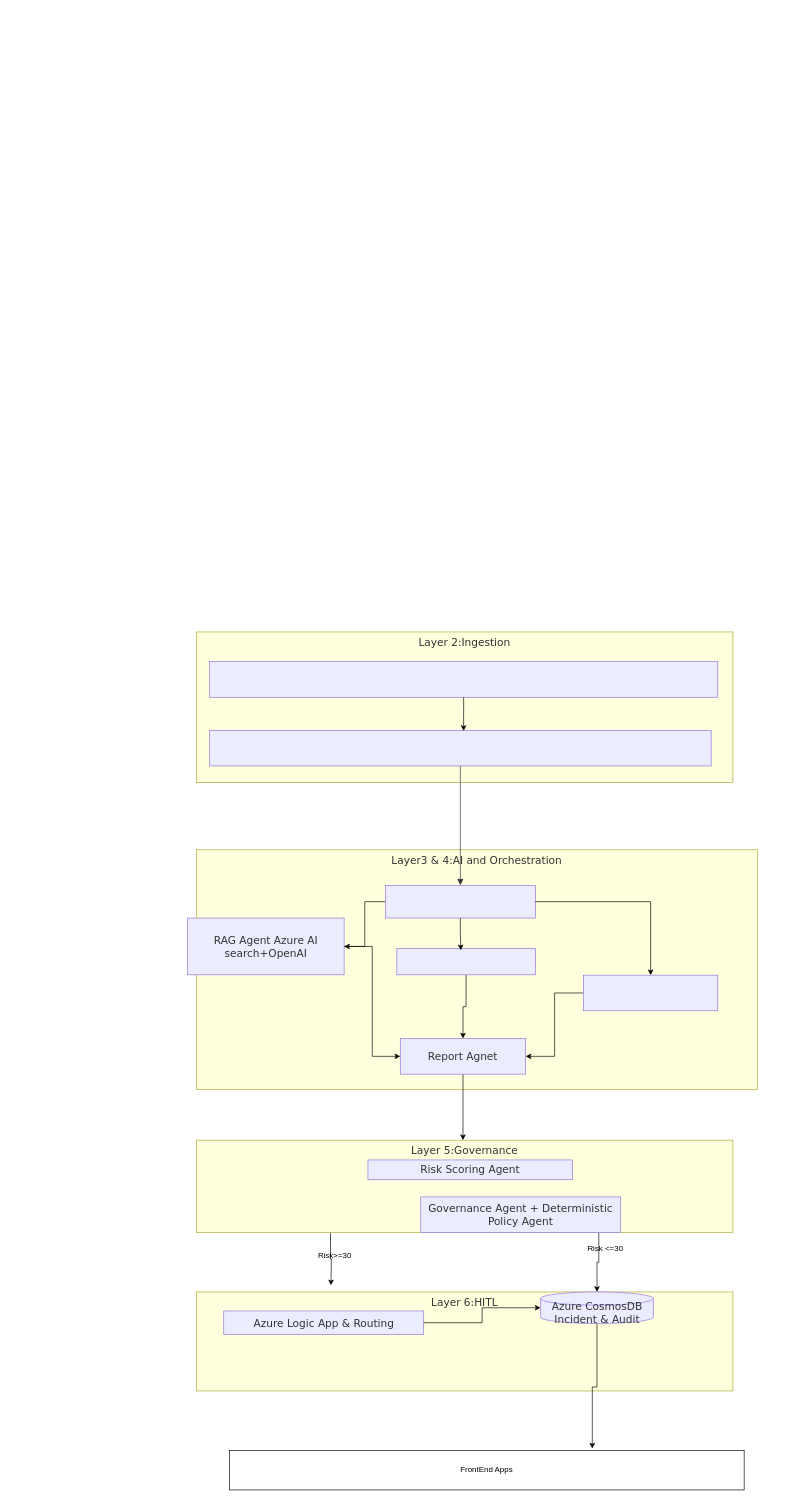
Some shapes in this 803 by 1502 pixel diagram are drawn without their labels. The centre of each missing label's shape, as x and y in pixels:
"Azure Blob Storage" goes at (x=463, y=679).
"Azure Event Grid" goes at (x=460, y=748).
"Document Agent Azure AI Document Intellegence" goes at (x=465, y=961).
"LangGraph Workflow Engine" goes at (x=460, y=901).
"Vision Agent Azure AI Vision" goes at (x=650, y=992).
